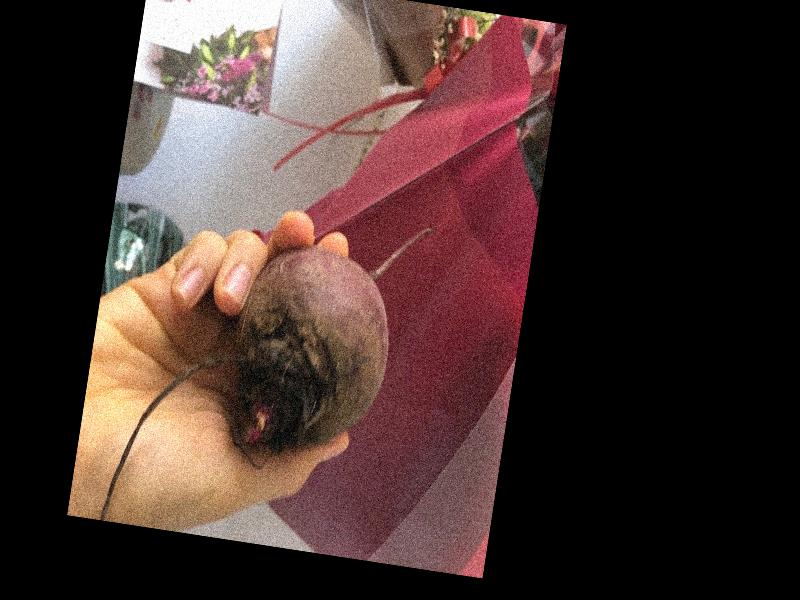Beet: (99, 181, 436, 559)
